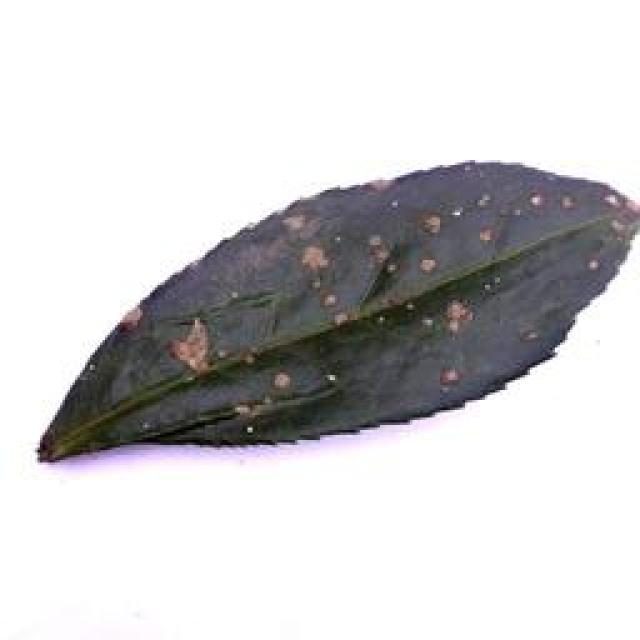Algal Leaf Spot: (41, 154, 630, 473)
